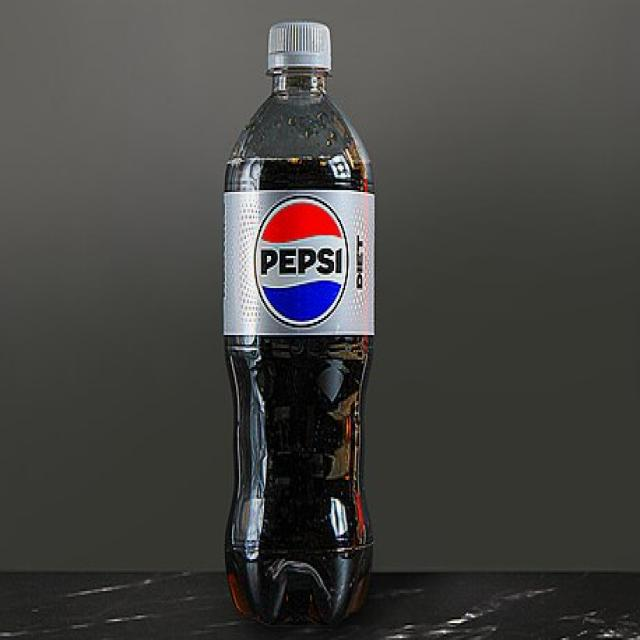supermarket-product: (222, 170, 398, 362)
